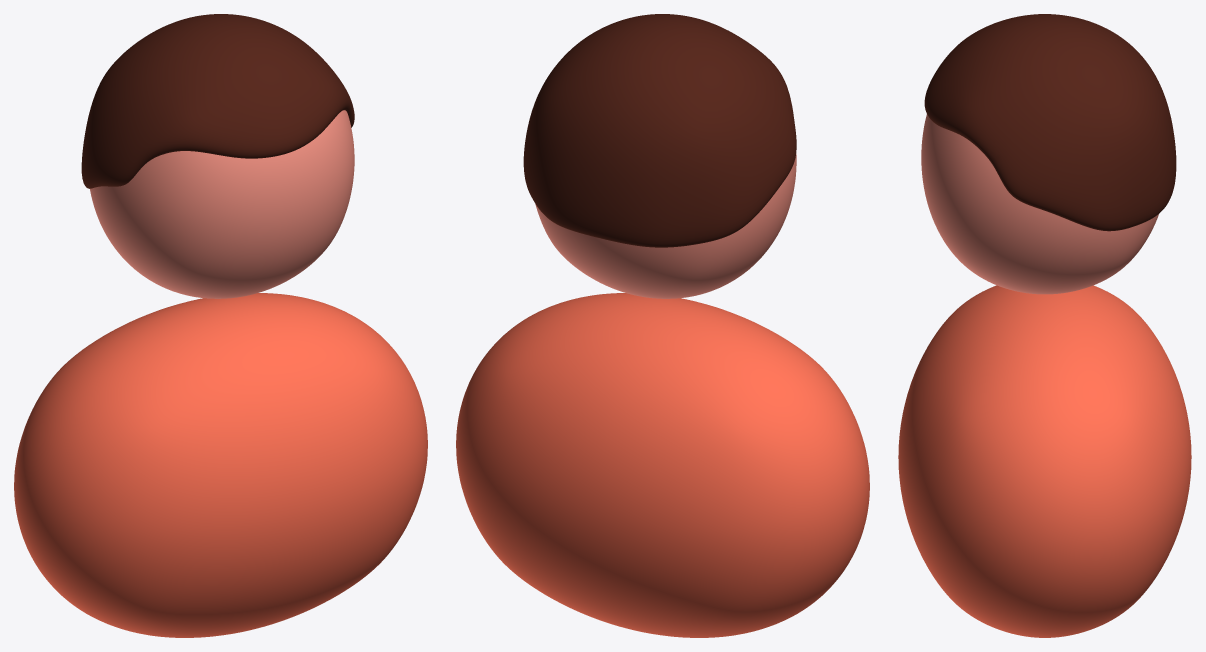
The model's file is boy.glb.
3 renders of one model, left to right at view 1: azimuth 30°, elevation 25°; view 2: azimuth 150°, elevation 25°; view 3: azimuth 270°, elevation 25°, orthographic.
Parts seen in each view (by area): view 1: Boy; view 2: Boy; view 3: Boy.
Boxes of the visible parts, <box> form: Boy: <box>14,14,427,637</box>; Boy: <box>456,14,869,637</box>; Boy: <box>898,14,1191,637</box>.
Bounding box in the file's own units: 1.23 × 1.83 × 0.8319.
